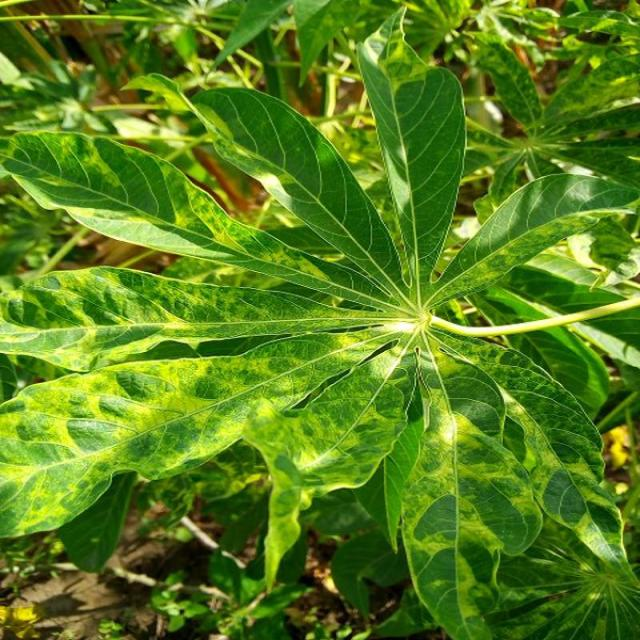Mosaico: (40, 59, 591, 591)
